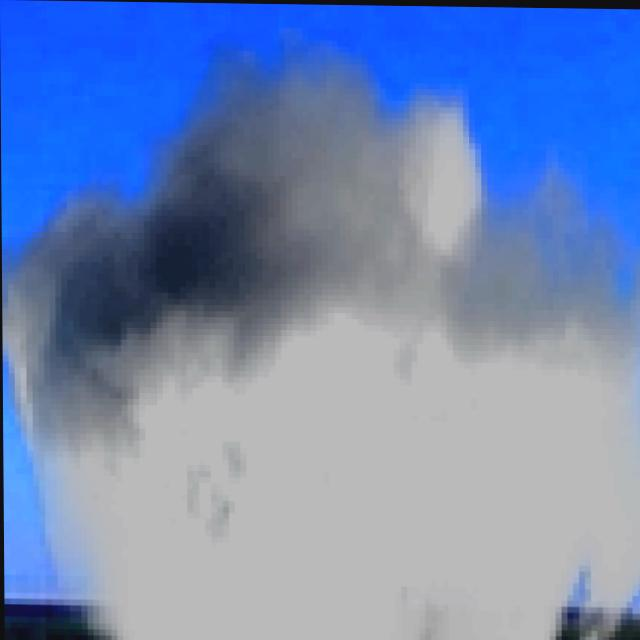smoke: (0, 23, 640, 640)
